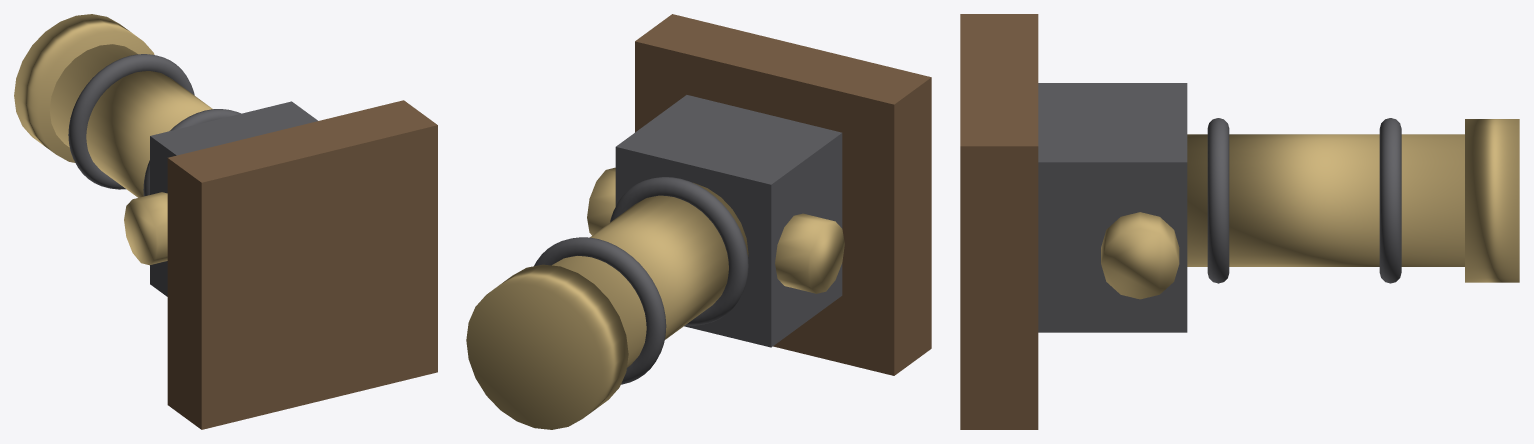
The model's file is cannon.glb.
3 renders of one model, left to right at view 1: azimuth 30°, elevation 25°; view 2: azimuth 150°, elevation 25°; view 3: azimuth 270°, elevation 25°, orthographic. The views are drawn at different scales.
Parts seen in each view (by area): view 1: Cannon; view 2: Cannon; view 3: Cannon.
Boxes of the visible parts, x1=… form: Cannon: x1=14, y1=14, x2=437, y2=429; Cannon: x1=466, y1=14, x2=931, y2=429; Cannon: x1=960, y1=14, x2=1519, y2=429.
Size of the model in its own units: 0.4 by 0.4 by 0.715.
